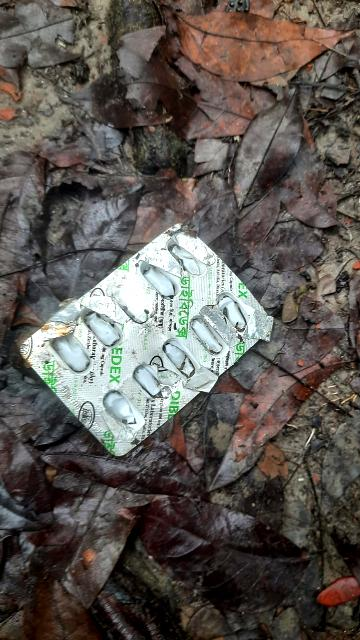medicine: (11, 205, 286, 469)
